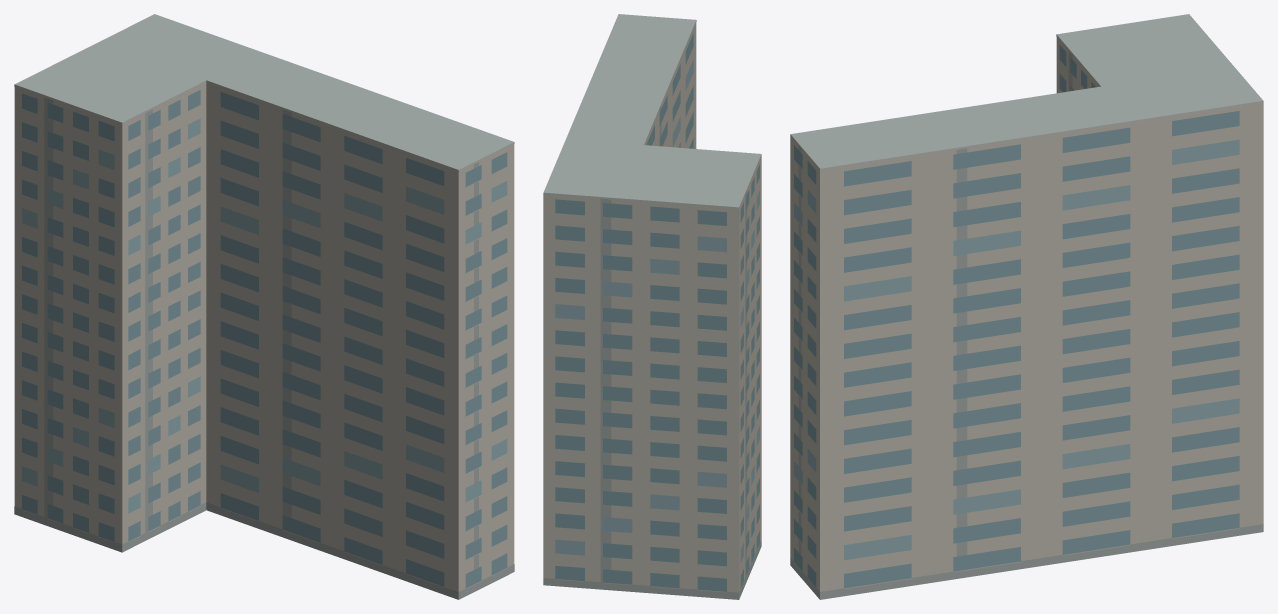
File: residential-83ba4ece-21bc-4a2e-ad6b-1b9a534771e4.glb
The picture shows the model from 3 angles, left to right: view 1: azimuth 30°, elevation 25°; view 2: azimuth 150°, elevation 25°; view 3: azimuth 270°, elevation 25°; orthographic projection. The views are drawn at different scales.
Parts seen in each view (by area): view 1: residential-83ba4ece-21bc-4a2e-ad6b-1b9a534771e4.tmp; view 2: residential-83ba4ece-21bc-4a2e-ad6b-1b9a534771e4.tmp; view 3: residential-83ba4ece-21bc-4a2e-ad6b-1b9a534771e4.tmp.
Part boxes in pixels (left/top/right/bottom): residential-83ba4ece-21bc-4a2e-ad6b-1b9a534771e4.tmp: left=14, top=14, right=514, bottom=599; residential-83ba4ece-21bc-4a2e-ad6b-1b9a534771e4.tmp: left=543, top=14, right=761, bottom=599; residential-83ba4ece-21bc-4a2e-ad6b-1b9a534771e4.tmp: left=790, top=14, right=1263, bottom=599.
Size of the model in its own units: 37.7 by 49 by 48.72.
